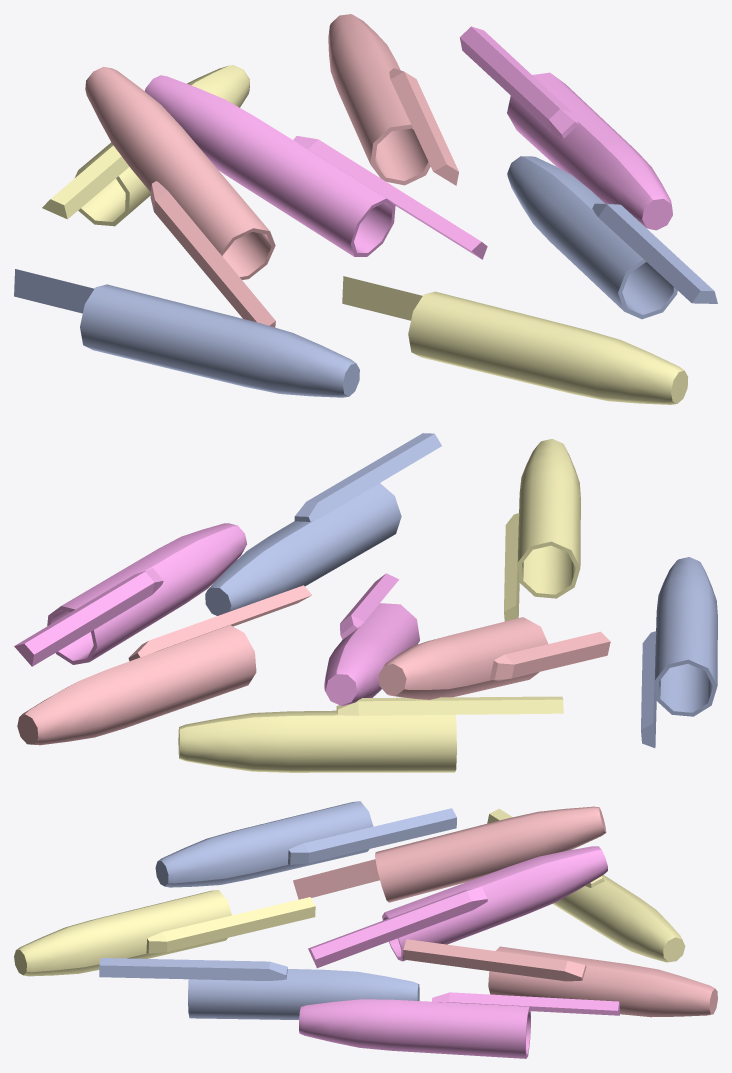
The model's file is 볼펜뚜껑들_풍경.fbx.
3 renders of one model, top to bottom at view 1: azimuth 30°, elevation 25°; view 2: azimuth 150°, elevation 25°; view 3: azimuth 270°, elevation 25°, orthographic. The views are drawn at different scales.
Parts seen in each view (by area): view 1: hood_01.008, hood_01.006, hood_01.003, hood_01.002, hood_01.005, hood_01.007, hood_01.004, hood_01.001; view 2: hood_01.001, hood_01.004, hood_01.005, hood_01.007, hood_01.002, hood_01.006, hood_01.008, hood_01.003; view 3: hood_01.007, hood_01.002, hood_01.003, hood_01.006, hood_01.008, hood_01.004, hood_01.005, hood_01.001.
Part boxes in pixels (x1,y1,x2,y2): hood_01.008: [342, 276, 688, 404]; hood_01.006: [14, 269, 359, 397]; hood_01.003: [145, 75, 487, 259]; hood_01.002: [85, 66, 275, 327]; hood_01.005: [507, 156, 717, 319]; hood_01.007: [459, 26, 672, 230]; hood_01.004: [328, 14, 458, 185]; hood_01.001: [42, 65, 249, 226]; hood_01.001: [178, 696, 563, 772]; hood_01.004: [17, 585, 311, 745]; hood_01.005: [205, 433, 441, 615]; hood_01.007: [14, 523, 246, 666]; hood_01.002: [378, 617, 610, 699]; hood_01.006: [641, 557, 717, 747]; hood_01.008: [504, 439, 580, 621]; hood_01.003: [324, 573, 419, 706]; hood_01.007: [299, 992, 620, 1058]; hood_01.002: [293, 806, 606, 902]; hood_01.003: [308, 846, 607, 968]; hood_01.006: [155, 801, 456, 887]; hood_01.008: [14, 890, 315, 976]; hood_01.004: [403, 939, 717, 1017]; hood_01.005: [99, 958, 419, 1019]; hood_01.001: [487, 808, 685, 962].
Bounding box in the file's own units: 926 × 191 × 1205.
